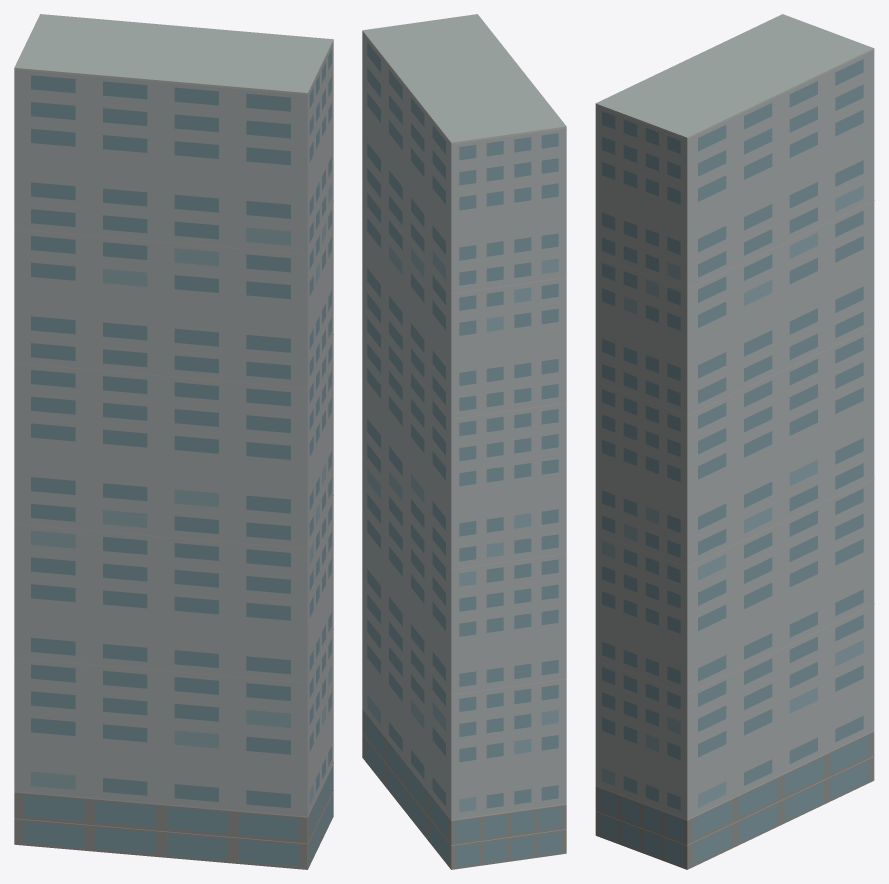
Rendered from residential-f371ecec-4d8d-42a9-a85f-fe09bc3cf2db.glb.
3 views of the same model, side by side, from view 1: azimuth 30°, elevation 25°; view 2: azimuth 150°, elevation 25°; view 3: azimuth 270°, elevation 25° (orthographic). The views are drawn at different scales.
Visible parts, largest first — view 1: residential-f371ecec-4d8d-42a9-a85f-fe09bc3cf2db.tmp; view 2: residential-f371ecec-4d8d-42a9-a85f-fe09bc3cf2db.tmp; view 3: residential-f371ecec-4d8d-42a9-a85f-fe09bc3cf2db.tmp.
Part boxes in pixels (left/top/right/bottom): residential-f371ecec-4d8d-42a9-a85f-fe09bc3cf2db.tmp: left=14, top=14, right=333, bottom=869; residential-f371ecec-4d8d-42a9-a85f-fe09bc3cf2db.tmp: left=362, top=14, right=566, bottom=869; residential-f371ecec-4d8d-42a9-a85f-fe09bc3cf2db.tmp: left=595, top=14, right=874, bottom=869.
Size of the model in its own units: 33.35 by 92 by 31.77.
